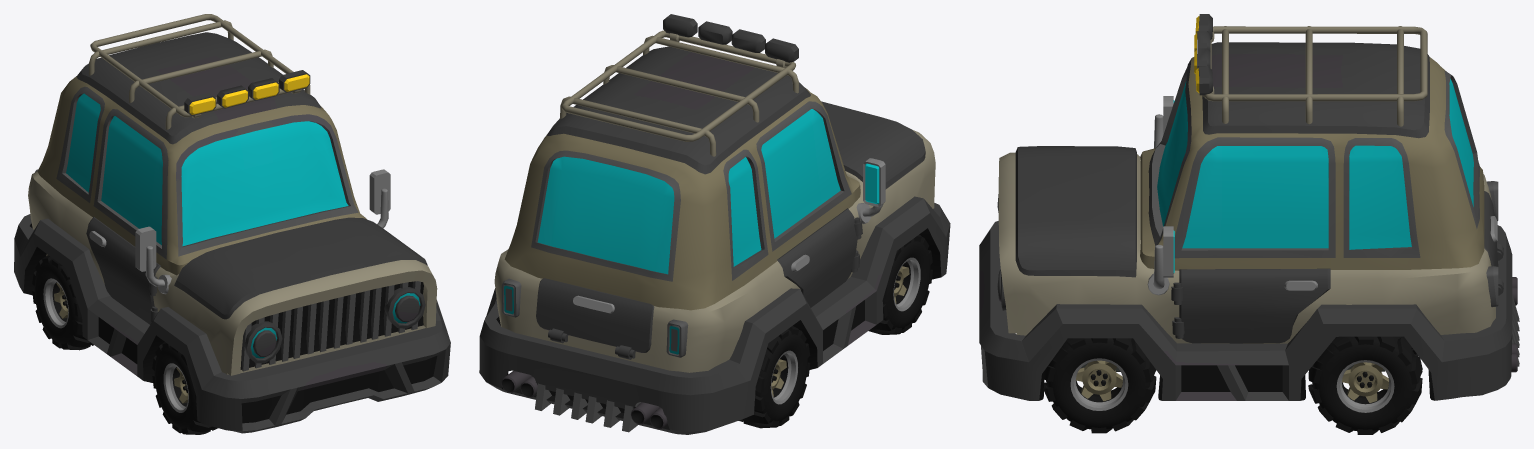
File: VEH9-B.fbx
3 renders of one model, left to right at view 1: azimuth 30°, elevation 25°; view 2: azimuth 150°, elevation 25°; view 3: azimuth 270°, elevation 25°, orthographic. The views are drawn at different scales.
Parts seen in each view (by area): view 1: VEH9_B, V9B_Wheel_BR, V9B_Wheel_FR; view 2: VEH9_B, V9B_Wheel_BR, V9B_Wheel_FR; view 3: VEH9_B, V9B_Wheel_BL, V9B_Wheel_FL.
Part boxes in pixels (left/top/right/bottom): VEH9_B: left=14, top=14, right=450, bottom=433; V9B_Wheel_BR: left=32, top=255, right=93, bottom=350; V9B_Wheel_FR: left=152, top=342, right=217, bottom=434; VEH9_B: left=479, top=14, right=950, bottom=434; V9B_Wheel_BR: left=738, top=326, right=810, bottom=428; V9B_Wheel_FR: left=868, top=234, right=932, bottom=334; VEH9_B: left=979, top=14, right=1519, bottom=400; V9B_Wheel_BL: left=1308, top=336, right=1422, bottom=434; V9B_Wheel_FL: left=1043, top=338, right=1156, bottom=433.
Bounding box in the file's own units: 256 × 280 × 420.
1 material, 1 textured.
